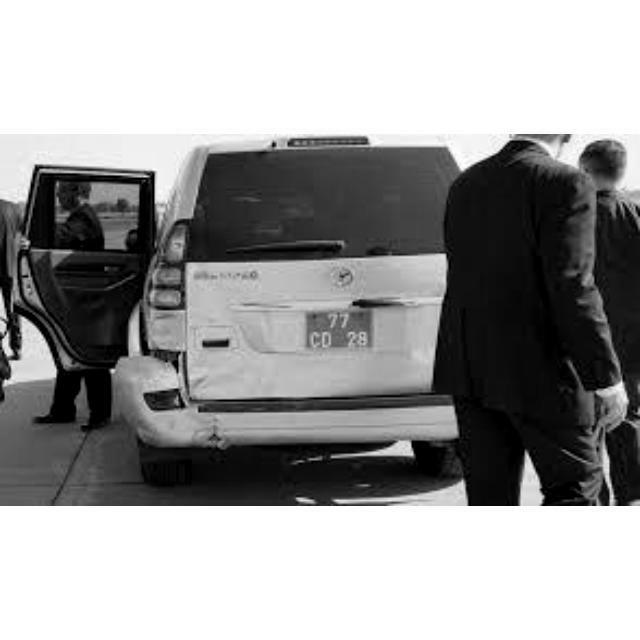boot-dent: (201, 274, 318, 382)
rear-bumper-dent: (114, 358, 255, 458)
